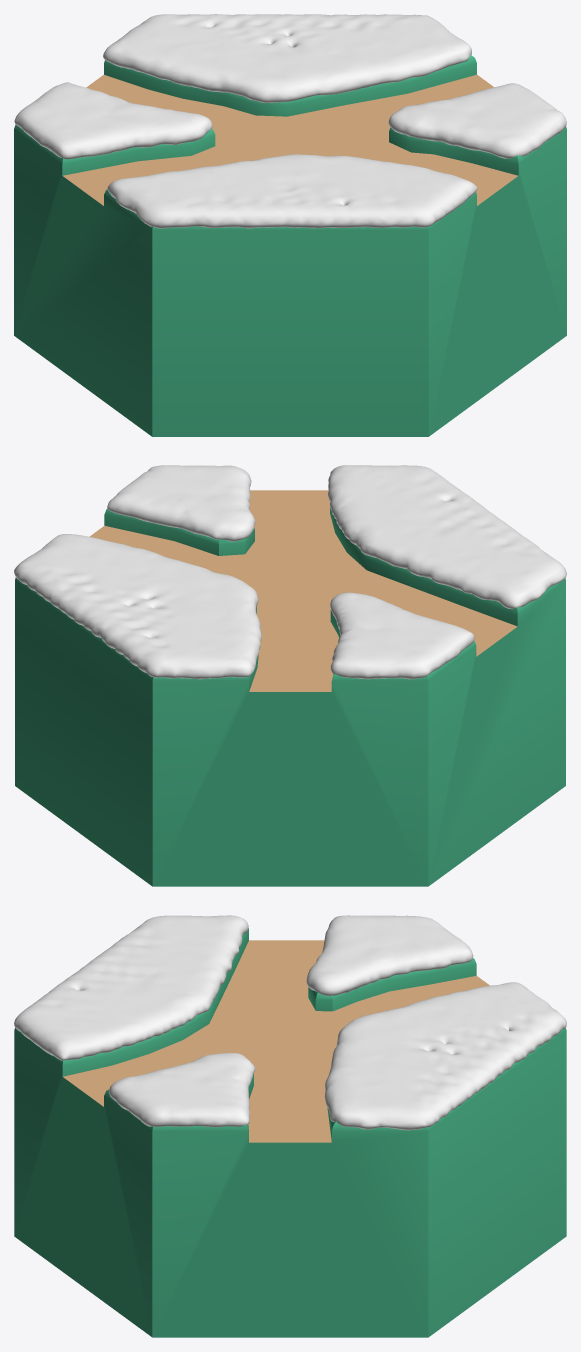
File: snow_hex_forest_roadJ.fbx
3 renders of one model, top to bottom at view 1: azimuth 30°, elevation 25°; view 2: azimuth 150°, elevation 25°; view 3: azimuth 270°, elevation 25°, orthographic.
Visible parts, largest first — view 1: hex_forest_roadJ.001, SnowBall.001, hex_forest_roadJ; view 2: hex_forest_roadJ.001, SnowBall.001, hex_forest_roadJ; view 3: hex_forest_roadJ.001, SnowBall.001, hex_forest_roadJ.
Boxes of the visible parts, box(x1,y1,x2,y2) form: hex_forest_roadJ.001: box(14, 55, 566, 436); SnowBall.001: box(14, 14, 566, 228); hex_forest_roadJ: box(62, 74, 518, 205); hex_forest_roadJ.001: box(15, 503, 565, 886); SnowBall.001: box(14, 465, 566, 679); hex_forest_roadJ: box(89, 490, 517, 691); hex_forest_roadJ.001: box(14, 928, 566, 1337); SnowBall.001: box(14, 915, 566, 1130); hex_forest_roadJ: box(63, 940, 489, 1142).
Bounding box in the file's own units: 204 × 104 × 231.
